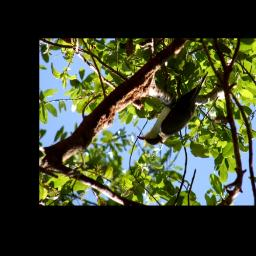Cuckoo: (136, 71, 207, 145)
